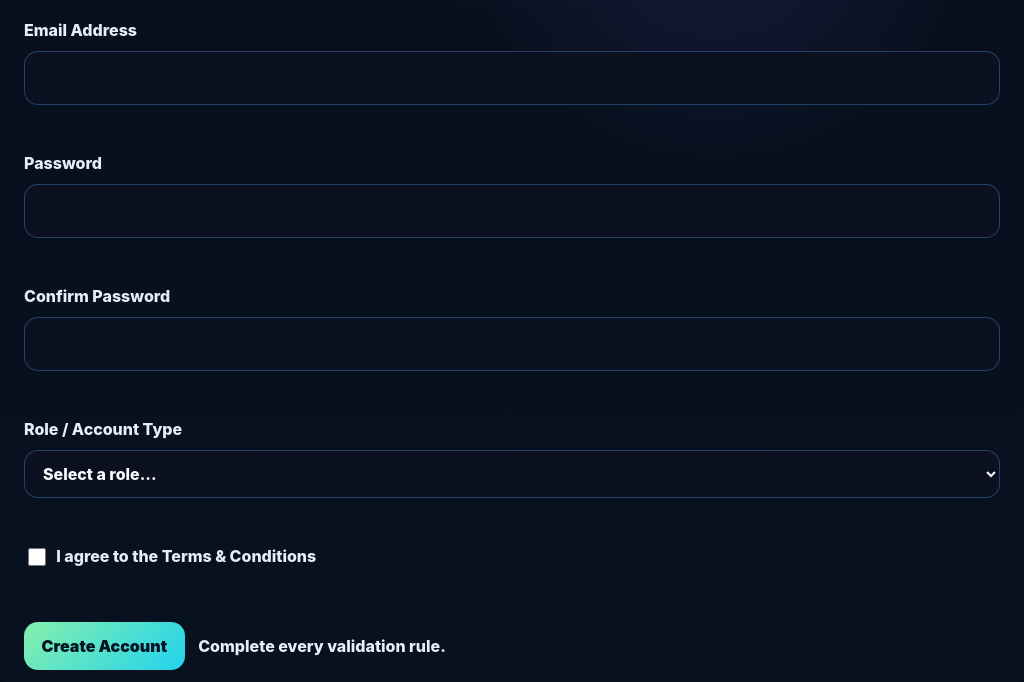
Test: Week 7 Assignment 2 - React Hook Form User Registration › edge: blocks submission and shows validation messages for missing or invalid values
(page scrolled)
Click the button "Create Account" at (104, 646), box [24,622,185,670]
(page scrolled)
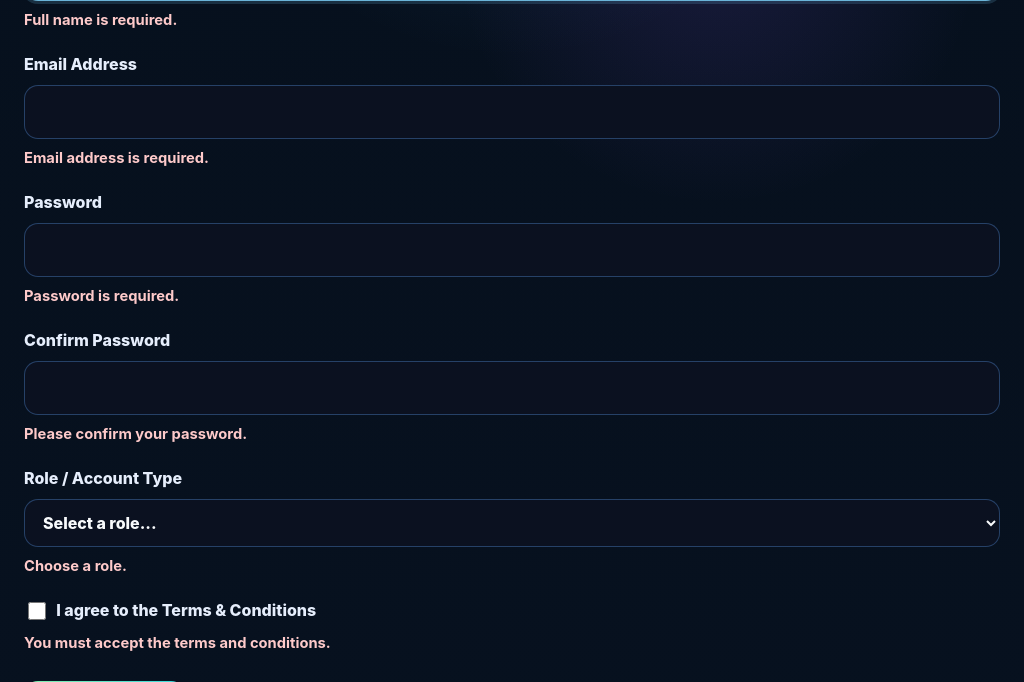
Check: the text "Full name is required." is shown, box [24,11,177,29]
Check: the text "Email address is required." is shown, box [24,149,209,167]
Check: the text "Password is required." is shown, box [24,287,179,305]
